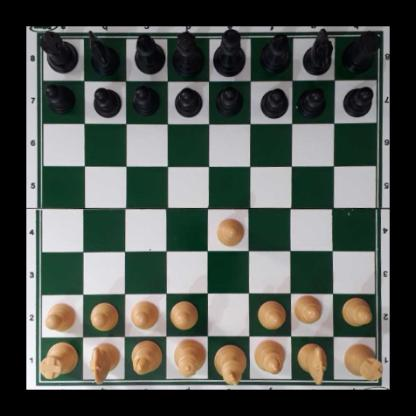black-bishop: (260, 31, 291, 73), (134, 32, 165, 73)
black-king: (211, 28, 245, 76)
black-knight: (88, 30, 119, 76), (303, 27, 332, 76)
black-pawn: (343, 85, 373, 117), (298, 85, 326, 117), (46, 83, 75, 113), (175, 85, 203, 116), (215, 85, 243, 116), (93, 85, 120, 117), (260, 87, 288, 117), (132, 84, 159, 115)
black-queen: (172, 31, 205, 75)
black-rook: (39, 32, 79, 72), (342, 31, 379, 73)
white-bishop: (254, 338, 285, 376), (130, 339, 161, 376)
white-king: (216, 342, 244, 385)
white-knight: (297, 342, 326, 385), (91, 342, 119, 384)
white-pawn: (44, 301, 77, 330), (341, 297, 372, 327), (129, 299, 158, 329), (215, 217, 245, 246), (256, 300, 285, 329), (294, 294, 322, 324), (170, 300, 198, 329), (90, 301, 118, 330)
white-queen: (174, 336, 205, 379)
white-rook: (343, 343, 383, 380), (39, 341, 78, 378)
